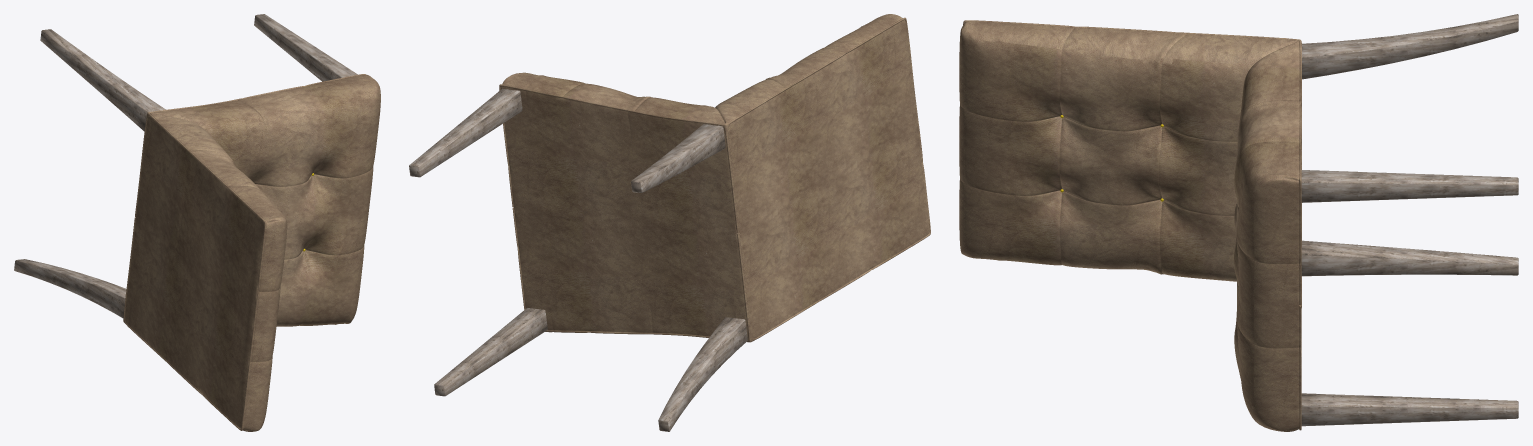
The model's file is Soft Leather_Chair N170726.obj.
3 renders of one model, left to right at view 1: azimuth 30°, elevation 25°; view 2: azimuth 150°, elevation 25°; view 3: azimuth 270°, elevation 25°, orthographic. The views are drawn at different scales.
Parts seen in each view (by area): view 1: Box10, Box08, Box09, Box071; view 2: Box10, Box09, Box071, Box061, Box08; view 3: Box10, Box09, Box08, Box071, Box061, Box06, Box07.
Part boxes in pixels (bbox=[...]): Box10: bbox=[123, 74, 380, 431]; Box08: bbox=[40, 29, 165, 131]; Box09: bbox=[14, 259, 126, 318]; Box071: bbox=[254, 14, 357, 81]; Box10: bbox=[499, 14, 930, 342]; Box09: bbox=[658, 317, 747, 431]; Box071: bbox=[410, 88, 522, 176]; Box061: bbox=[435, 308, 547, 395]; Box08: bbox=[631, 124, 725, 192]; Box10: bbox=[959, 20, 1301, 431]; Box09: bbox=[1301, 240, 1518, 276]; Box08: bbox=[1302, 14, 1518, 79]; Box071: bbox=[1301, 170, 1517, 202]; Box061: bbox=[1301, 393, 1517, 425]; Box06: bbox=[1301, 401, 1518, 426]; Box07: bbox=[1301, 178, 1518, 202].
Size of the model in its own units: 24.64 by 22.92 by 38.09.
3 materials, 2 textured.
